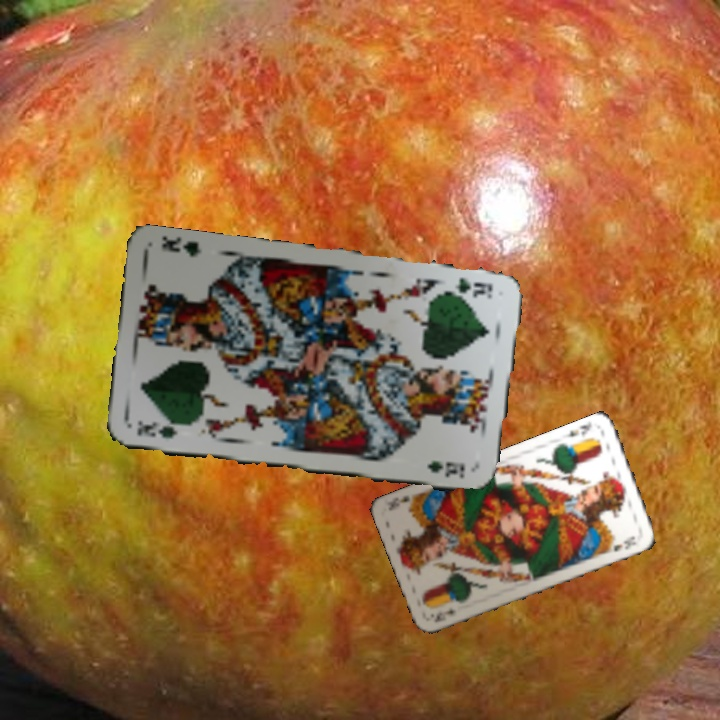EK: (560, 421, 594, 440), (429, 605, 458, 625)
GK: (450, 274, 495, 300), (132, 418, 180, 442)
